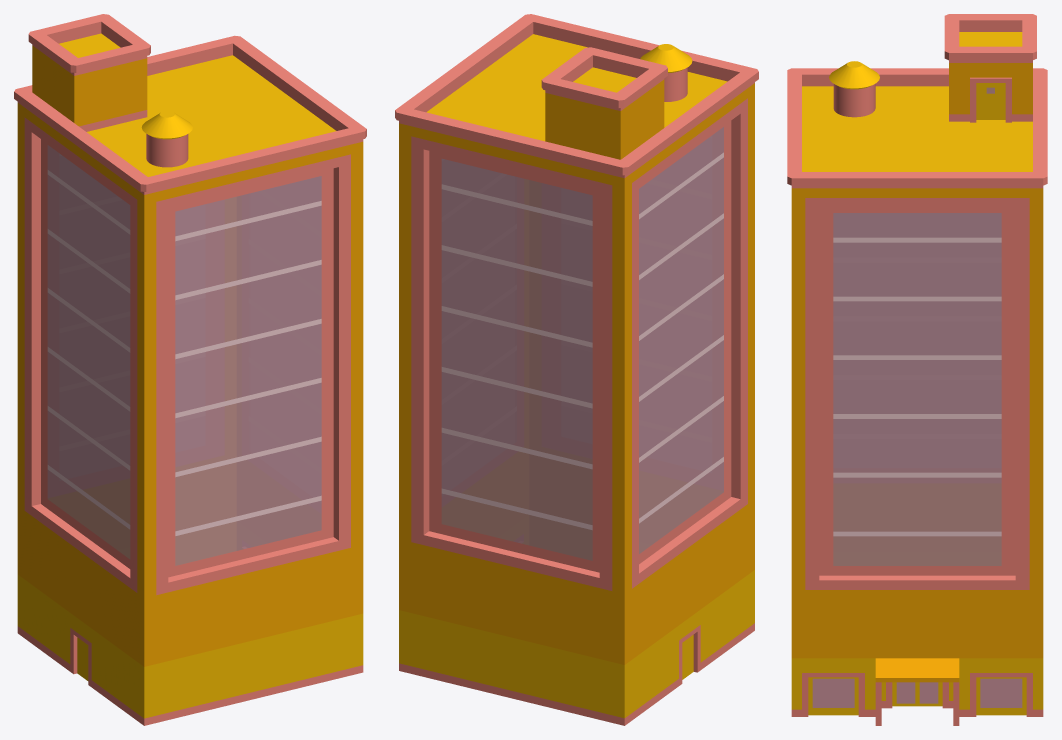
File: targetbuilding (3).fbx
3 views of the same model, side by side, from view 1: azimuth 30°, elevation 25°; view 2: azimuth 150°, elevation 25°; view 3: azimuth 270°, elevation 25° (orthographic). The views are drawn at different scales.
Parts seen in each view (by area): view 1: skyscraperC; view 2: skyscraperC; view 3: skyscraperC.
Boxes of the visible parts, x1,y1,x2,y2 form: skyscraperC: [14, 14, 366, 725]; skyscraperC: [395, 14, 758, 725]; skyscraperC: [787, 14, 1047, 725].
Bounding box in the file's own units: 122 × 281 × 111.
